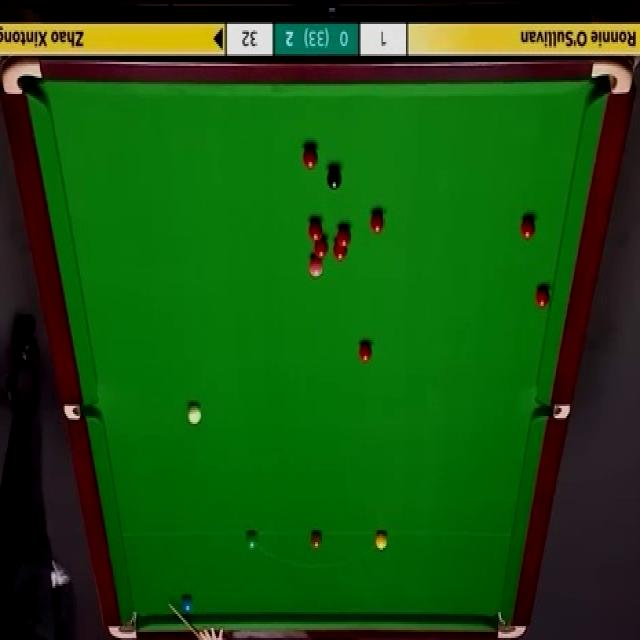black-ball: (325, 167, 341, 189)
blue-ball: (178, 596, 192, 613)
brown-ball: (309, 530, 322, 550)
green-ball: (245, 529, 259, 550)
pink-ball: (308, 256, 324, 281)
red-ball: (369, 208, 385, 235), (533, 284, 550, 308), (302, 146, 318, 170), (520, 216, 536, 240), (314, 238, 330, 260), (308, 220, 323, 243), (358, 340, 373, 362), (333, 239, 347, 262), (337, 226, 351, 247)
white-ball: (188, 401, 202, 428)
yellow-ball: (374, 530, 389, 551)
